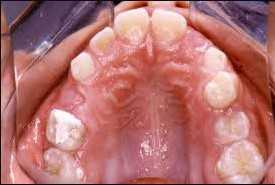UL1BC_healthy: (209, 74, 238, 108)
UL1M_healthy: (221, 144, 262, 184)
UL2BC_decay: (218, 113, 248, 140)
ULCI_healthy: (152, 9, 186, 47)
ULC_healthy: (206, 48, 225, 72)
UR1M_decay: (39, 153, 84, 182)
UR2BC_decay: (46, 110, 90, 151)
URCI_healthy: (117, 9, 148, 47)
URC_healthy: (72, 50, 96, 80)
URLI_healthy: (91, 28, 118, 55)
